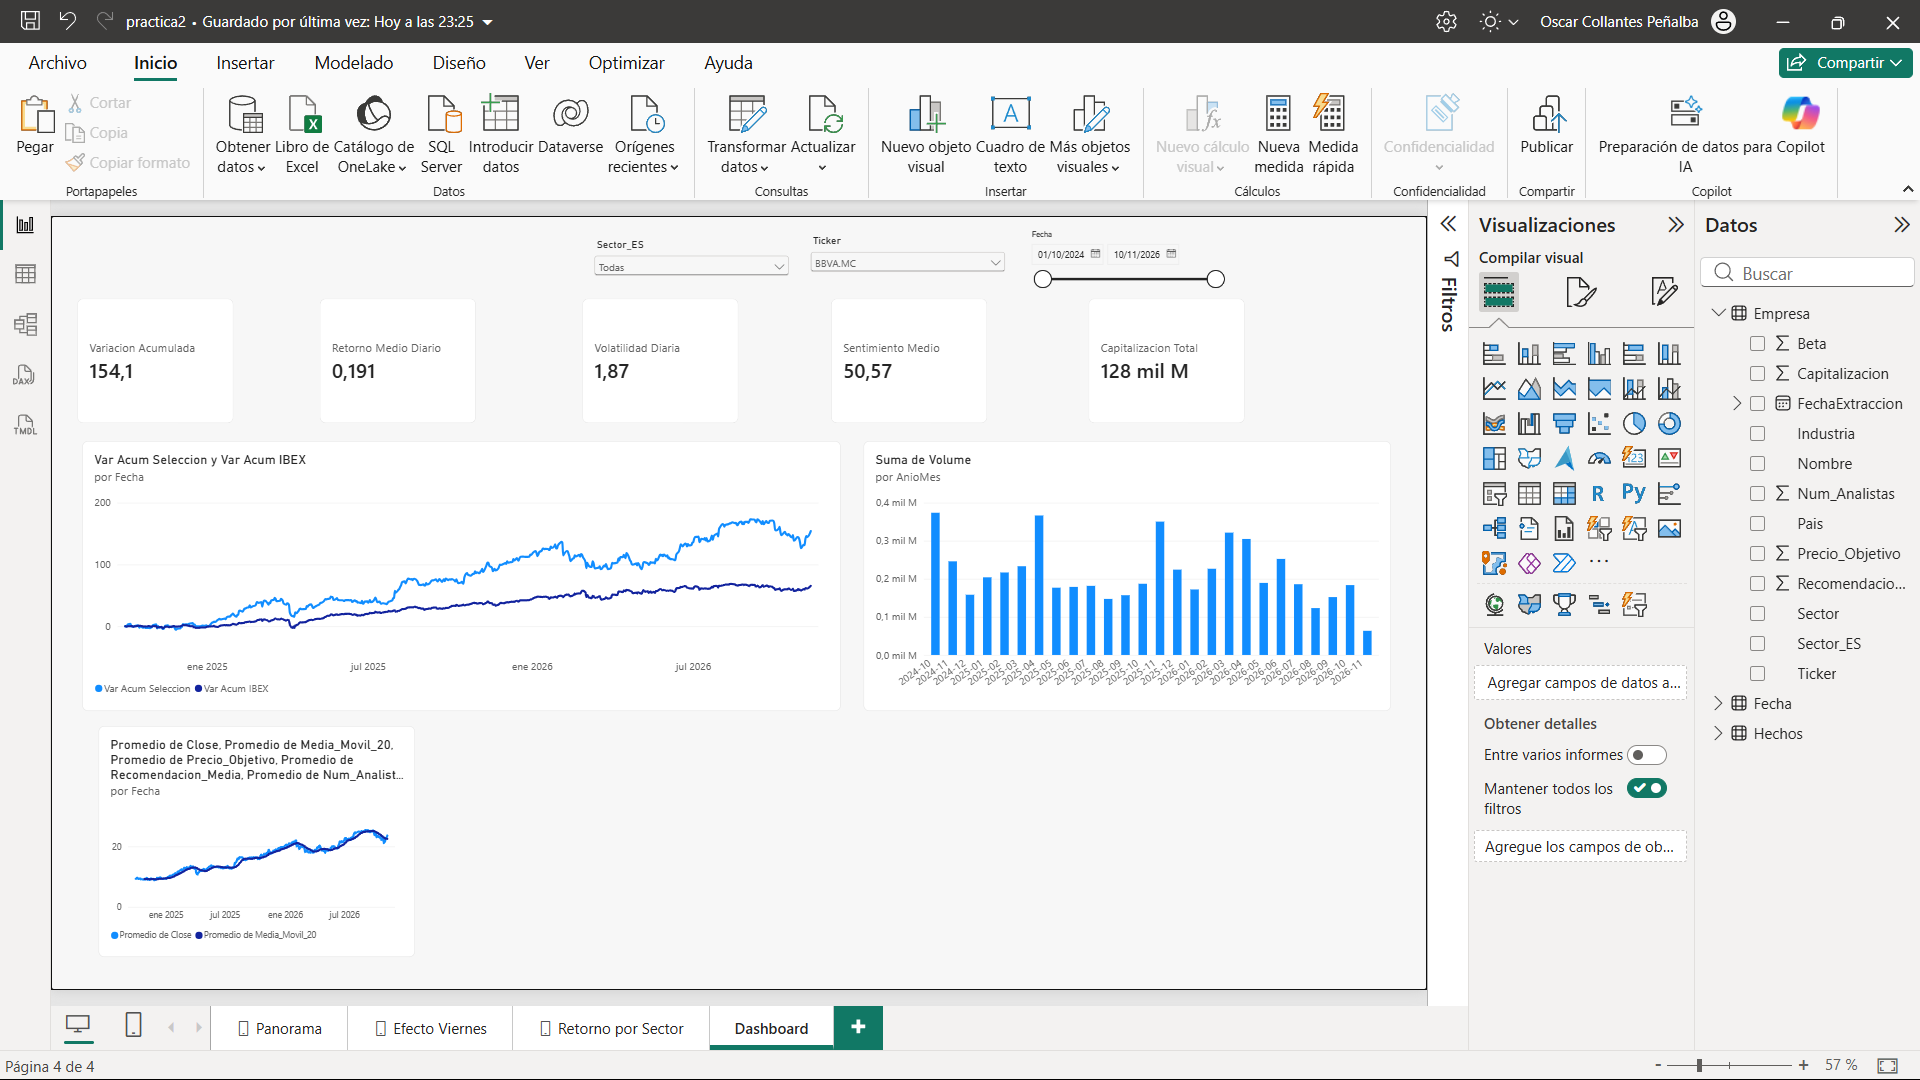

The page's visual inventory and layout, read from the dashboard file:
{"tool":"powerbi","page":{"name":"Dashboard","canvas":[1920,1080],"ordinal":3},"visuals":[{"type":"slicer","fields":{"Values":["Empresa.Sector_ES"]},"box":[753.5,31.4,280.8,68],"z":0},{"type":"slicer","fields":{"Values":["Empresa.Ticker"]},"box":[1055.2,26.2,280.8,80.2],"z":1000},{"type":"slicer","fields":{"Values":["Fecha.Fecha"]},"box":[1360.5,19.2,280.8,95.9],"z":2000},{"type":"cardVisual","fields":{"Data":["Hechos.Variacion Acumulada"]},"box":[36.6,115.1,218,174.4],"z":3000},{"type":"cardVisual","fields":{"Data":["Hechos.Retorno Medio Diario"]},"box":[375,115.1,218,174.4],"z":4000},{"type":"cardVisual","fields":{"Data":["Hechos.Volatilidad Diaria"]},"box":[741.3,115.1,218,174.4],"z":5000},{"type":"cardVisual","fields":{"Data":["Hechos.Sentimiento Medio"]},"box":[1088.4,115.1,218,174.4],"z":6000},{"type":"cardVisual","fields":{"Data":["Hechos.Capitalizacion Total"]},"box":[1447.7,115.1,218,174.4],"z":7000},{"type":"lineChart","fields":{"Category":["Fecha.Fecha"],"Y":["Hechos.Var Acum Seleccion","Hechos.Var Acum IBEX"]},"box":[43.6,314,1058.7,376.7],"z":8000},{"type":"clusteredColumnChart","fields":{"Category":["Fecha.AnioMes"],"Y":["Sum(Hechos.Volume)"]},"box":[1133.7,314,736,376.7],"z":9000},{"type":"lineChart","fields":{"Category":["Fecha.Fecha"],"Y":["Avg(Hechos.Close)","Avg(Hechos.Media_Movil_20)"]},"box":[66.3,711.6,395.9,322.7],"z":10000},{"type":"scatterChart","fields":{"Category":["Fecha.Fecha"],"X":["Hechos.Sentimiento Medio"],"Y":["Hechos.Retorno Medio Diario"]},"box":[462.2,711.6,444.8,322.7],"z":11000},{"type":"clusteredColumnChart","fields":{"Category":["Fecha.AnioMes"],"Y":["Hechos.Retorno Medio Diario"]},"box":[907,711.6,610.5,322.7],"z":12000},{"type":"donutChart","fields":{"Category":["Fecha.Trimestre"],"Y":["Sum(Hechos.Dividends)"]},"box":[1517.4,711.6,385.5,322.7],"z":13000},{"type":"cardVisual","fields":{"Data":["Hechos.Titulo Dashboard"]},"box":[66.3,19.2,556.4,75],"z":13001}]}

Visuals, with their boxes on the page's 1920x1080 design canvas (x1, y1, x2, y2). These are canvas units, not pixel positions in the 1920x1080 screenshot, which may show the page scaled, cropped or inside an application window:
slicer - Empresa.Sector_ES: BBox(754, 31, 1034, 99)
slicer - Empresa.Ticker: BBox(1055, 26, 1336, 106)
slicer - Fecha.Fecha: BBox(1360, 19, 1641, 115)
cardVisual - Hechos.Variacion Acumulada: BBox(37, 115, 255, 290)
cardVisual - Hechos.Retorno Medio Diario: BBox(375, 115, 593, 290)
cardVisual - Hechos.Volatilidad Diaria: BBox(741, 115, 959, 290)
cardVisual - Hechos.Sentimiento Medio: BBox(1088, 115, 1306, 290)
cardVisual - Hechos.Capitalizacion Total: BBox(1448, 115, 1666, 290)
lineChart - Fecha.Fecha x Hechos.Var Acum Seleccion: BBox(44, 314, 1102, 691)
clusteredColumnChart - Fecha.AnioMes x Sum(Hechos.Volume): BBox(1134, 314, 1870, 691)
lineChart - Fecha.Fecha x Avg(Hechos.Close): BBox(66, 712, 462, 1034)
scatterChart - Fecha.Fecha x Hechos.Sentimiento Medio: BBox(462, 712, 907, 1034)
clusteredColumnChart - Fecha.AnioMes x Hechos.Retorno Medio Diario: BBox(907, 712, 1518, 1034)
donutChart - Fecha.Trimestre x Sum(Hechos.Dividends): BBox(1517, 712, 1903, 1034)
cardVisual - Hechos.Titulo Dashboard: BBox(66, 19, 623, 94)
